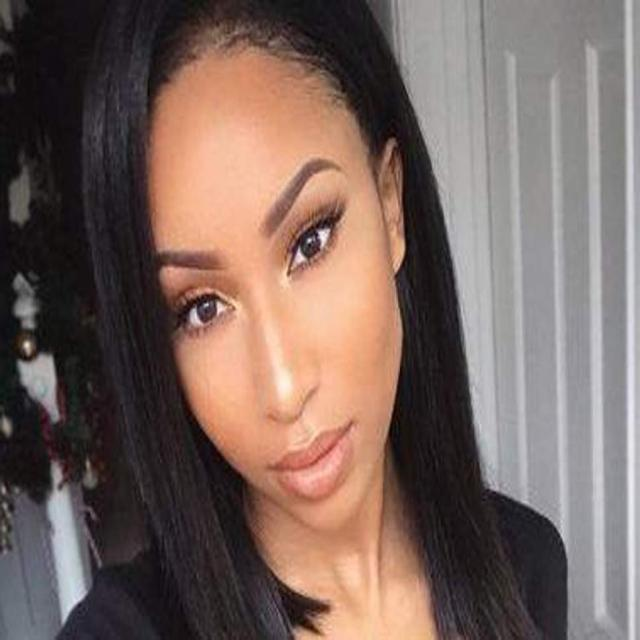mobile_phonerotation: (44, 1, 569, 637)
